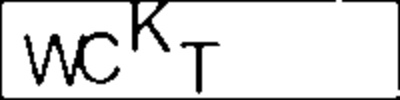C: (77, 29, 124, 84)
K: (128, 1, 172, 53)
T: (175, 37, 225, 95)
W: (21, 30, 88, 90)
